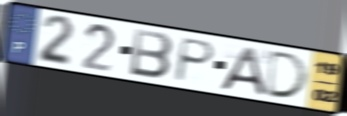2: (37, 13, 75, 68), (79, 22, 119, 73)
A: (217, 45, 268, 97)
B: (128, 27, 175, 81)
D: (263, 49, 311, 101)
P: (171, 36, 218, 84)
